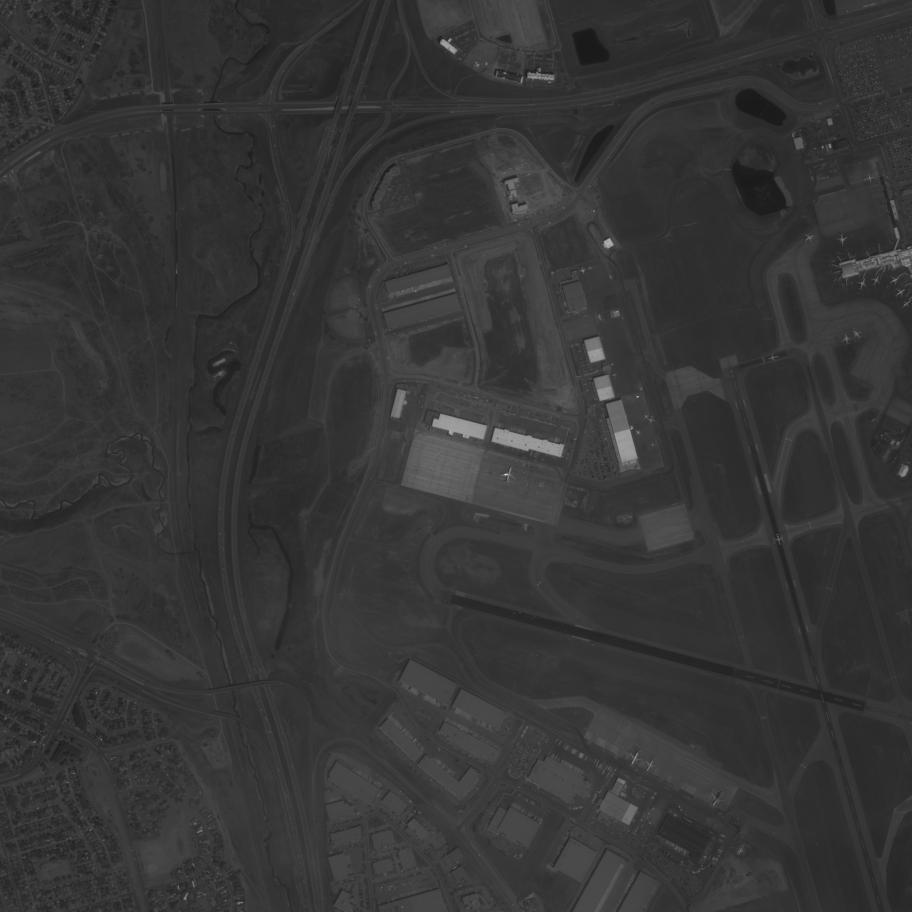plane: (623, 743, 648, 770), (704, 785, 729, 811), (496, 463, 520, 487), (640, 752, 661, 776), (891, 284, 909, 302), (849, 326, 865, 342), (887, 272, 903, 288), (801, 230, 817, 246), (839, 331, 854, 347), (868, 273, 884, 288), (855, 276, 870, 292), (765, 350, 781, 364), (771, 531, 785, 547), (861, 171, 877, 185), (645, 412, 658, 425), (836, 233, 848, 247), (632, 426, 644, 438), (578, 264, 588, 276), (594, 312, 604, 322), (610, 371, 619, 380), (641, 411, 650, 420), (648, 441, 657, 449), (607, 272, 615, 281), (637, 385, 645, 393), (586, 263, 594, 271), (635, 392, 643, 400), (609, 361, 615, 368)
